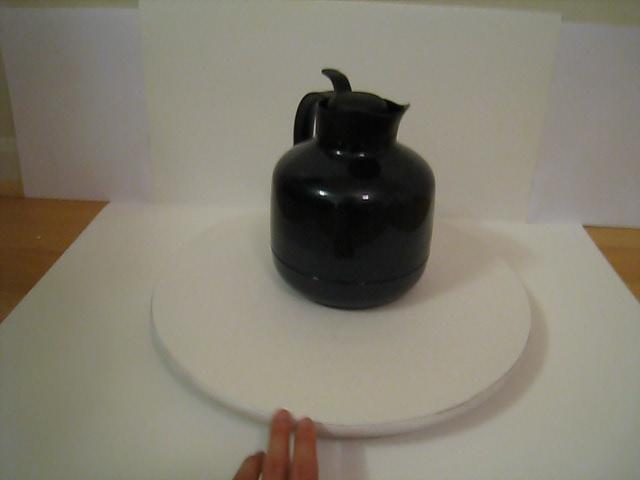pitcher: (267, 61, 442, 321)
